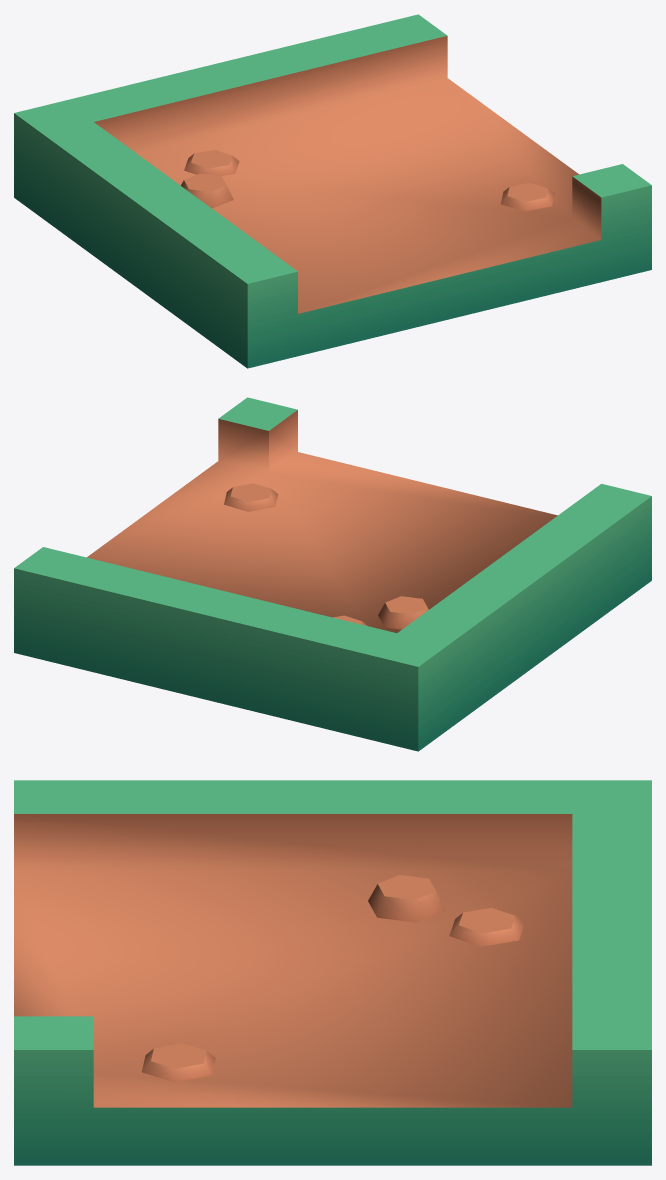
Rendered from kenney-tower-defense-tile-corner-square.glb.
3 views of the same model, one above another, from view 1: azimuth 30°, elevation 25°; view 2: azimuth 150°, elevation 25°; view 3: azimuth 270°, elevation 25° (orthographic). The views are drawn at different scales.
Visible parts, largest first — view 1: tile-corner-square; view 2: tile-corner-square; view 3: tile-corner-square.
Boxes of the visible parts, x1,y1,x2,y2 form: tile-corner-square: (14, 14, 651, 368); tile-corner-square: (14, 397, 651, 751); tile-corner-square: (14, 780, 651, 1165).
Size of the model in its own units: 1 by 0.2 by 1.
Materials: 1 (1 with a texture image).
